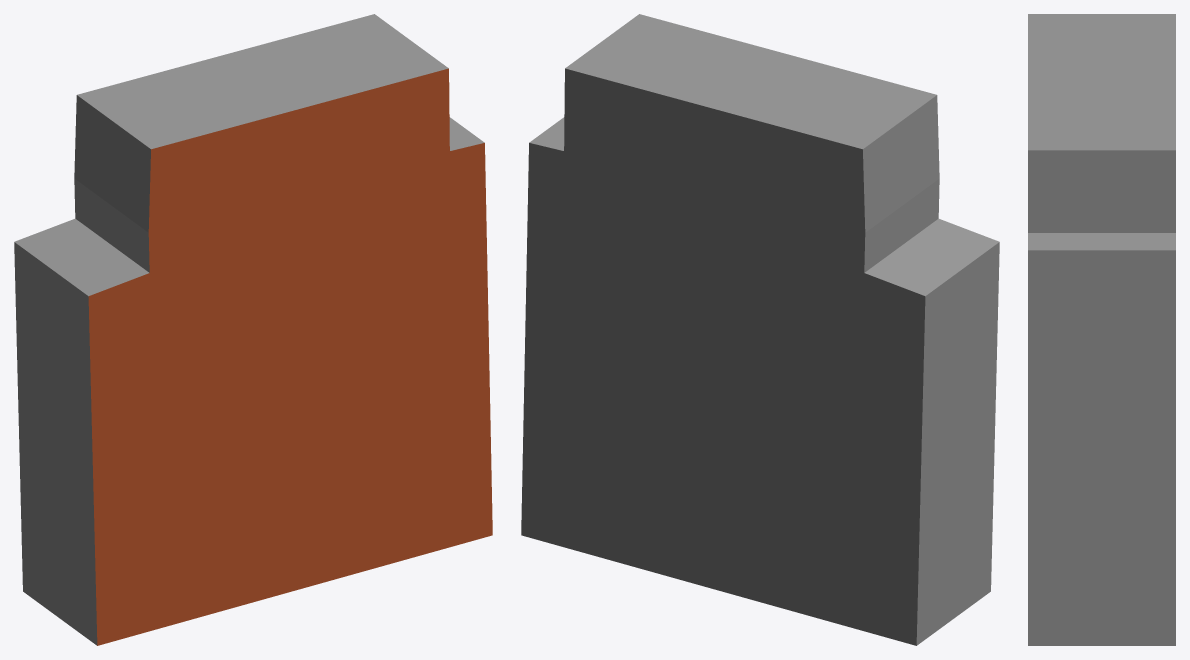
File: construction_0912_assumed_A_Casa_h6m.obj
3 renders of one model, left to right at view 1: azimuth 30°, elevation 25°; view 2: azimuth 150°, elevation 25°; view 3: azimuth 270°, elevation 25°, orthographic.
Visible parts, largest first — view 1: construction_0912_assumed_A_Casa; view 2: construction_0912_assumed_A_Casa; view 3: construction_0912_assumed_A_Casa.
Part boxes in pixels (x1,y1,x2,y2): construction_0912_assumed_A_Casa: (14, 14, 492, 645); construction_0912_assumed_A_Casa: (521, 14, 999, 645); construction_0912_assumed_A_Casa: (1028, 14, 1175, 645).
Bounding box in the file's own units: 18.83 × 21.88 × 6.
